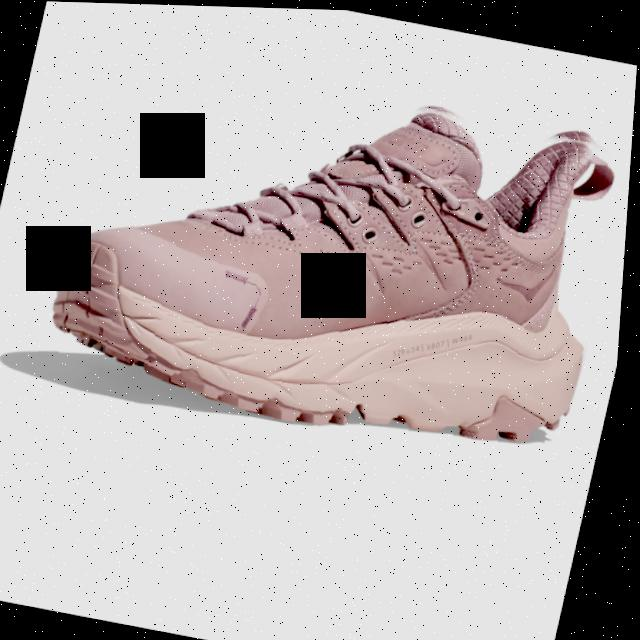shoe: (33, 38, 638, 473)
